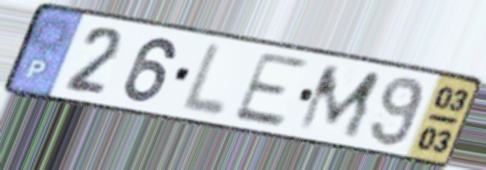2: (60, 25, 124, 99)
6: (120, 34, 179, 105)
9: (365, 74, 426, 149)
E: (228, 49, 311, 130)
L: (176, 40, 231, 121)
M: (293, 63, 386, 141)
